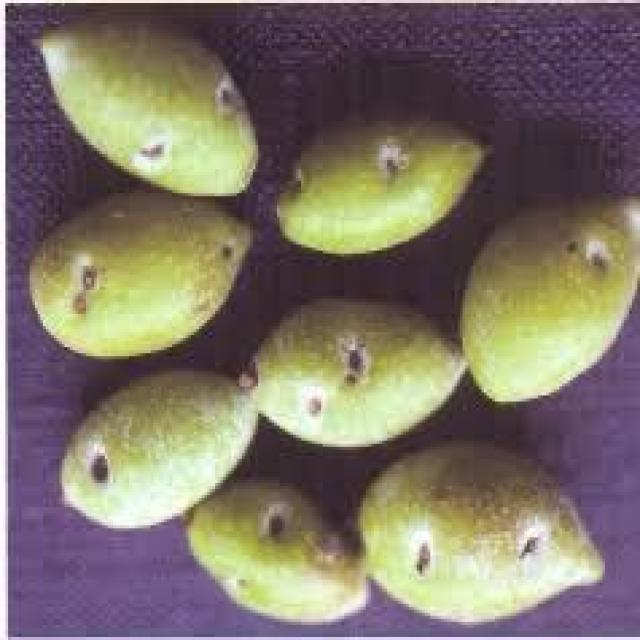Anthracnose: (358, 444, 602, 619), (34, 21, 256, 193), (29, 190, 250, 356), (460, 196, 637, 402), (240, 299, 466, 447), (64, 372, 256, 526), (188, 480, 366, 619), (277, 114, 446, 253)
